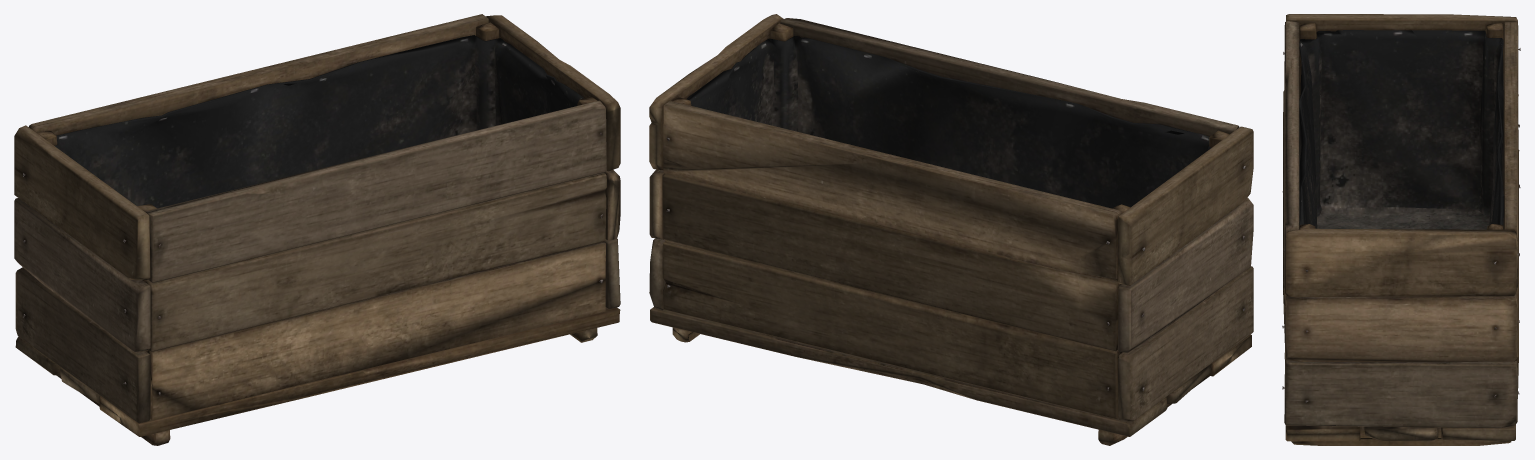
Rendered from planter.glb.
3 renders of one model, left to right at view 1: azimuth 30°, elevation 25°; view 2: azimuth 150°, elevation 25°; view 3: azimuth 270°, elevation 25°, orthographic. The views are drawn at different scales.
Visible parts, largest first — view 1: planter_box_01; view 2: planter_box_01; view 3: planter_box_01.
Boxes of the visible parts, x1,y1,x2,y2 form: planter_box_01: [14, 14, 620, 445]; planter_box_01: [649, 14, 1253, 445]; planter_box_01: [1282, 14, 1520, 445].
Size of the model in its own units: 0.9126 by 0.425 by 0.4135.
1 material, 1 textured.
